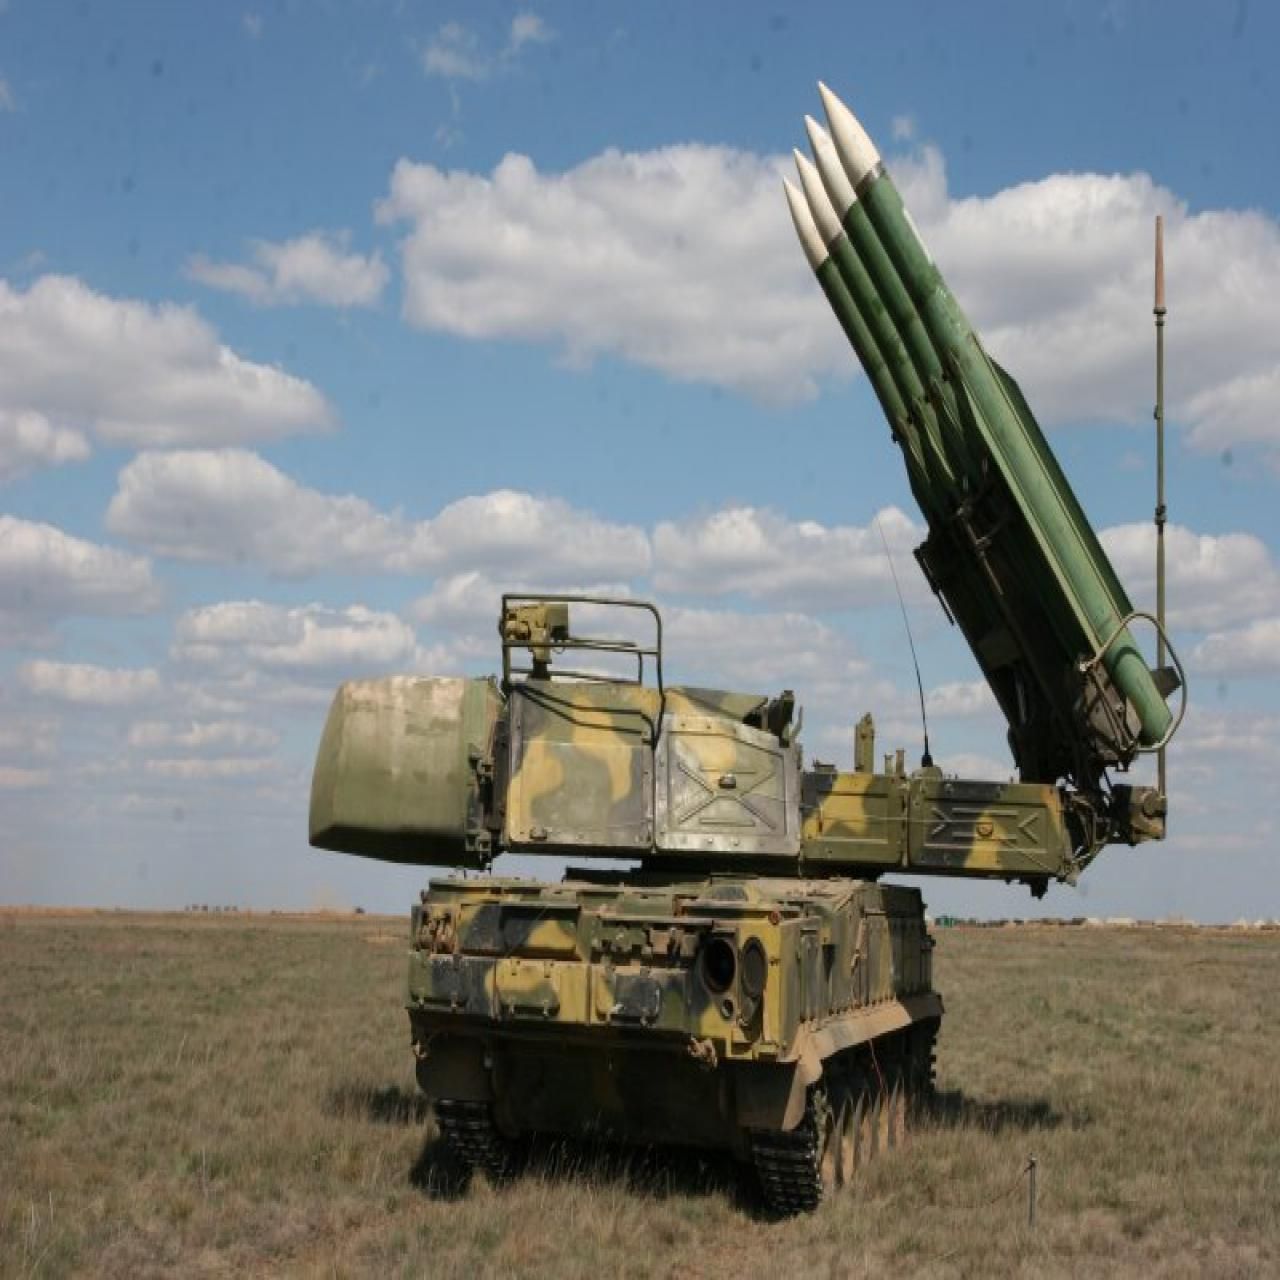MIL_Veh: (308, 81, 1178, 1201)
